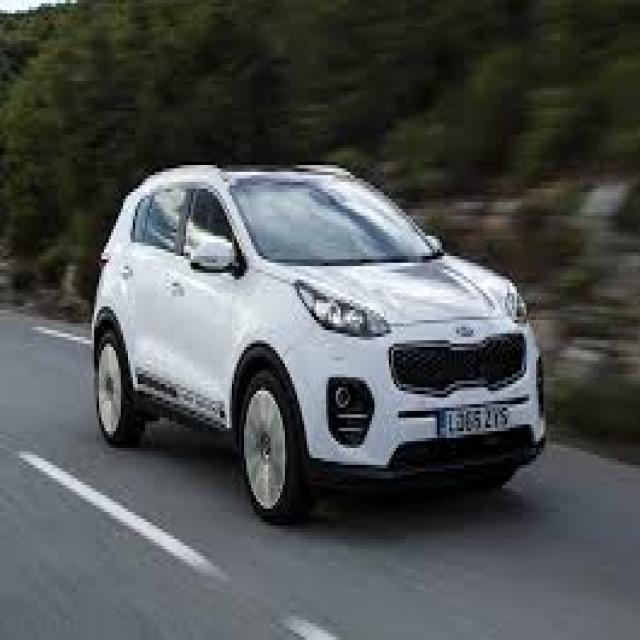Car: (95, 156, 553, 526)
